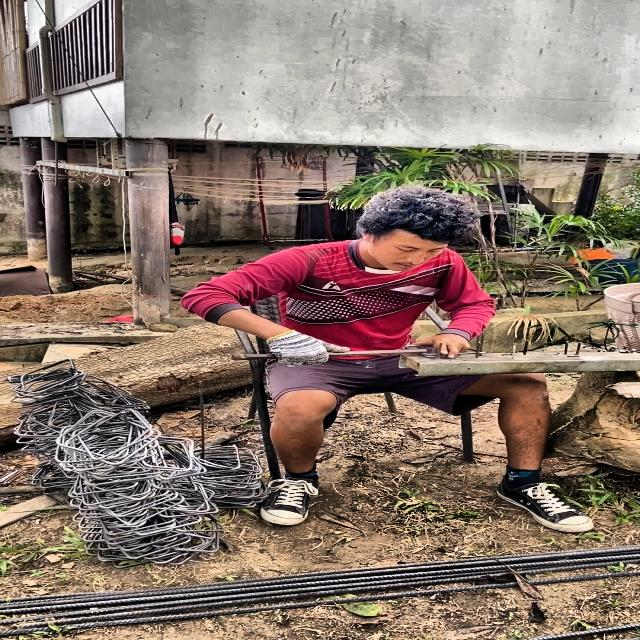gloved: (253, 324, 355, 366)
not-gloved: (432, 333, 488, 358)
